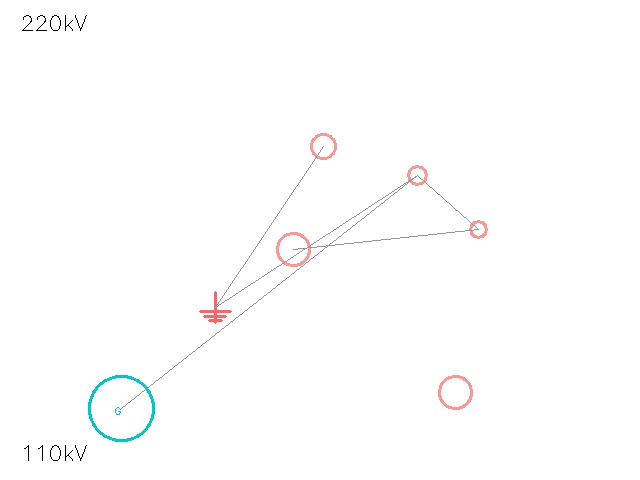disconnect_switch: (423, 360, 487, 424)
generator: (89, 376, 153, 440)
ground: (200, 292, 230, 322)
reactor: (261, 217, 325, 281), (399, 157, 435, 193), (462, 213, 494, 245)
voltage_transformer: (298, 121, 348, 171)
